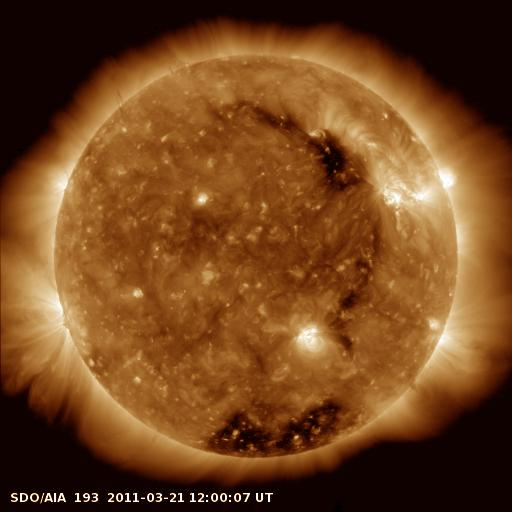coronal_hole: (198, 396, 349, 464), (303, 126, 371, 196)
